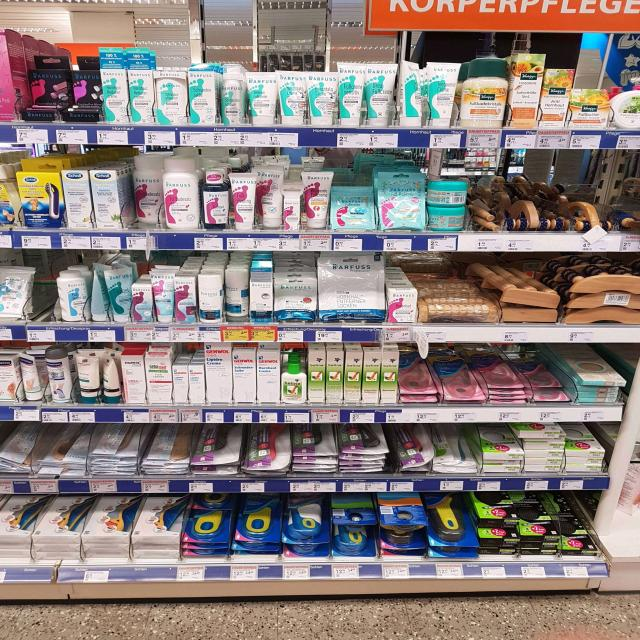unorganised: (473, 258, 561, 306), (551, 346, 629, 387), (90, 265, 135, 324), (131, 155, 163, 226), (517, 351, 563, 391), (399, 58, 423, 129), (259, 165, 284, 228), (224, 269, 248, 321), (20, 353, 45, 400), (100, 356, 122, 405), (428, 179, 466, 207), (510, 421, 568, 438)
